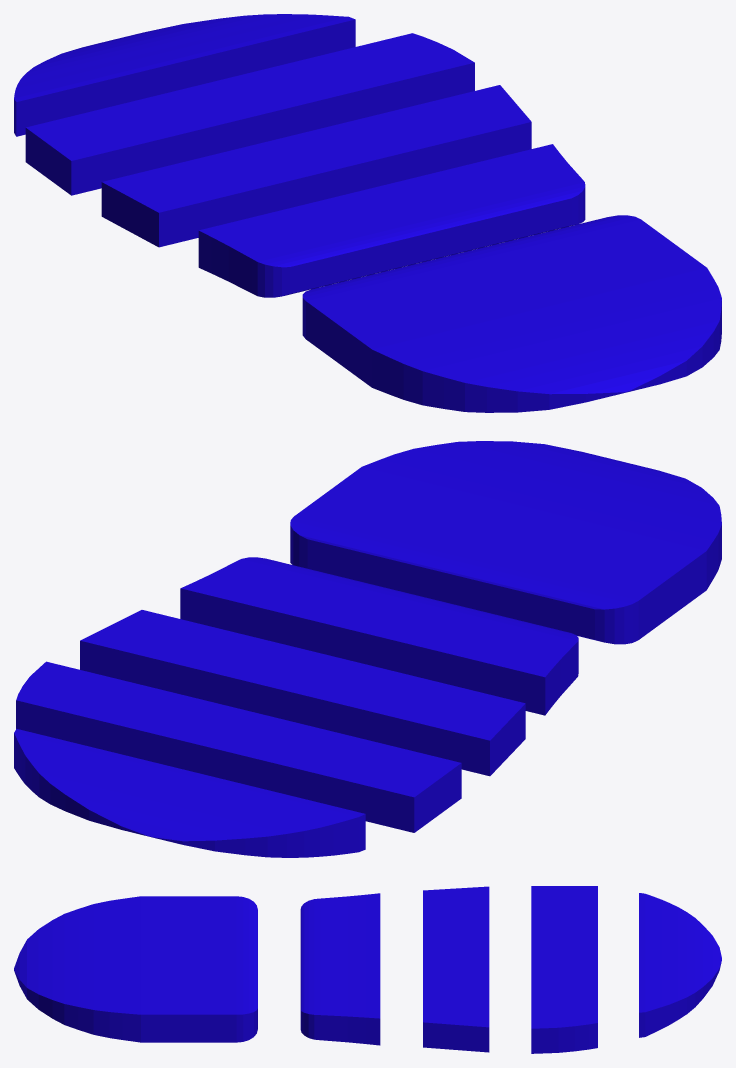
Rendered from Right Footprint.fbx.
3 views of the same model, one above another, from view 1: azimuth 30°, elevation 25°; view 2: azimuth 150°, elevation 25°; view 3: azimuth 270°, elevation 25° (orthographic). The views are drawn at different scales.
Visible parts, largest first — view 1: Right Footprint; view 2: Right Footprint; view 3: Right Footprint.
Boxes of the visible parts, x1,y1,x2,y2 form: Right Footprint: (14,14,721,412); Right Footprint: (14,441,721,857); Right Footprint: (14,886,721,1053).
Bounding box in the file's own units: 32.2 × 2.94 × 67.5.
